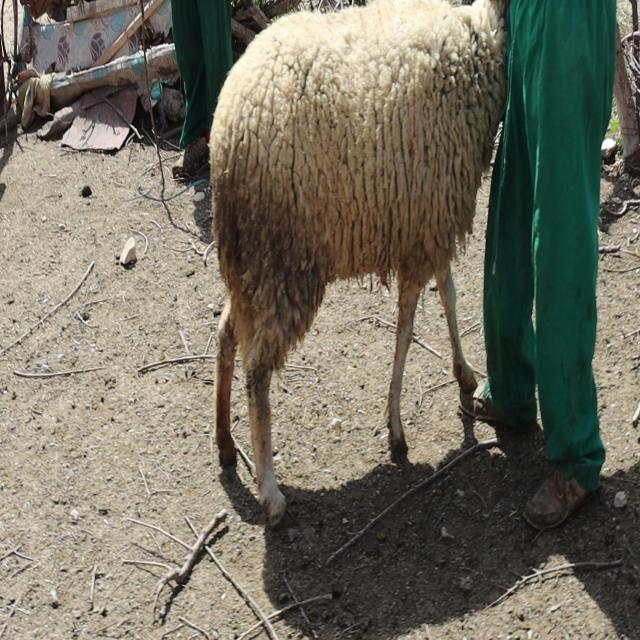Score_5: (209, 0, 509, 524)
